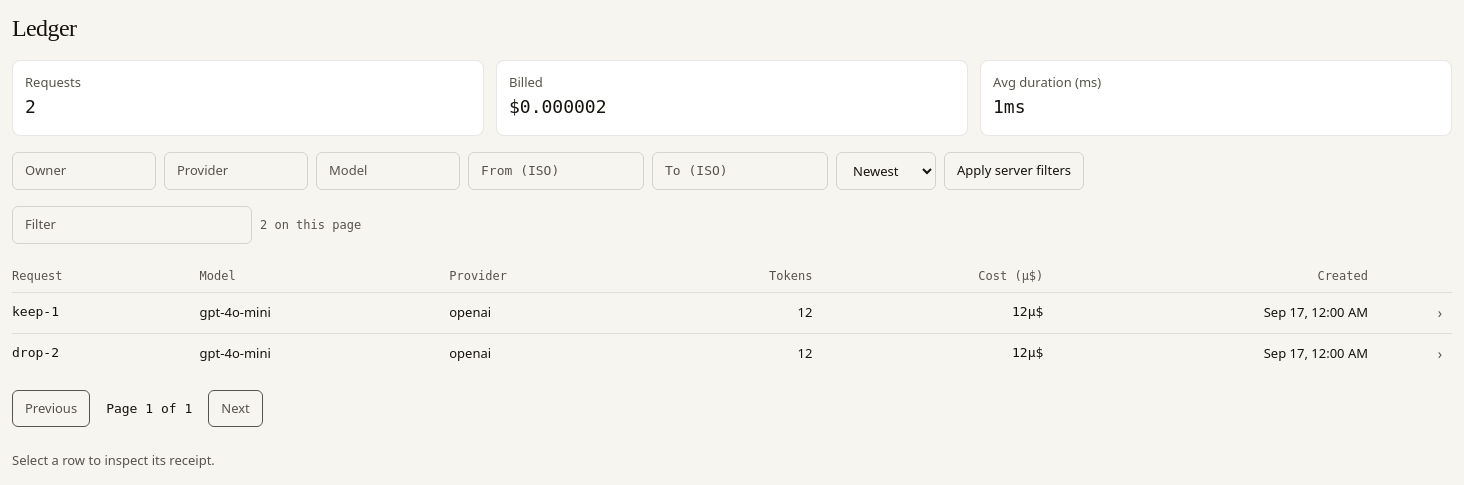
Test: LedgerPage › filters rows by request id without refetching
This screenshot has width=1464, height=485.
expect the table is shown: met, box [12,260,1452,374]
Type "keep" into the search field named "filter audit log".
click(132, 225); type("keep")  # box [12,206,252,244]
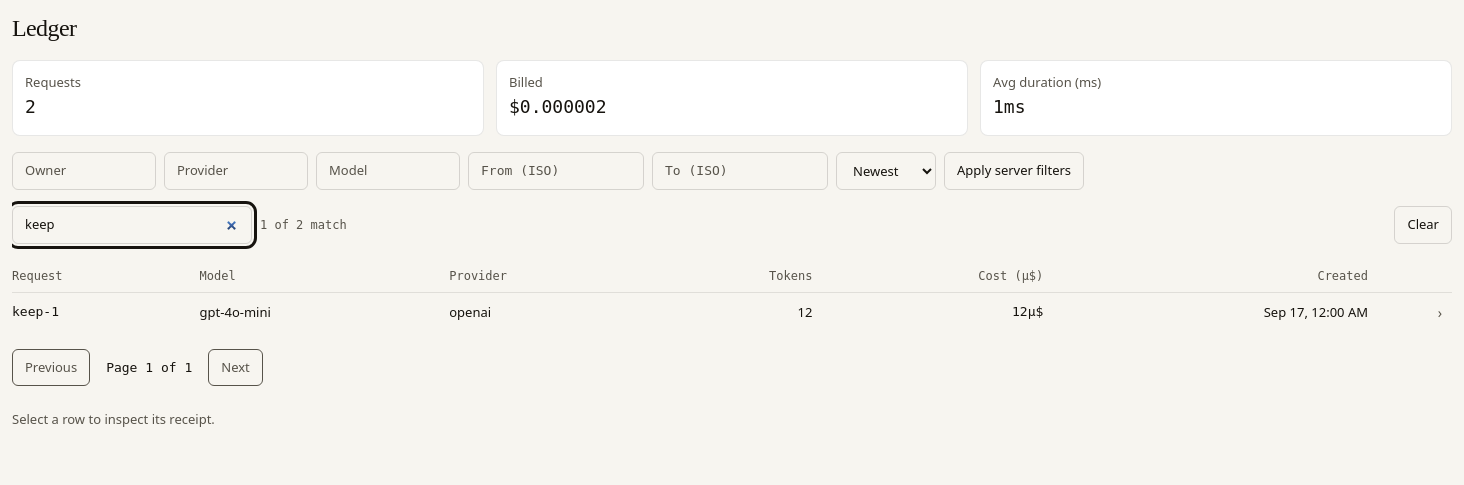
expect the text "keep-1" is shown: met, box [12,292,200,332]
expect the text "drop-2" is gone: met
Replace the text in the search field named "filter audit log" with "zzz-no-match" at (132, 225), box [12,206,252,244]
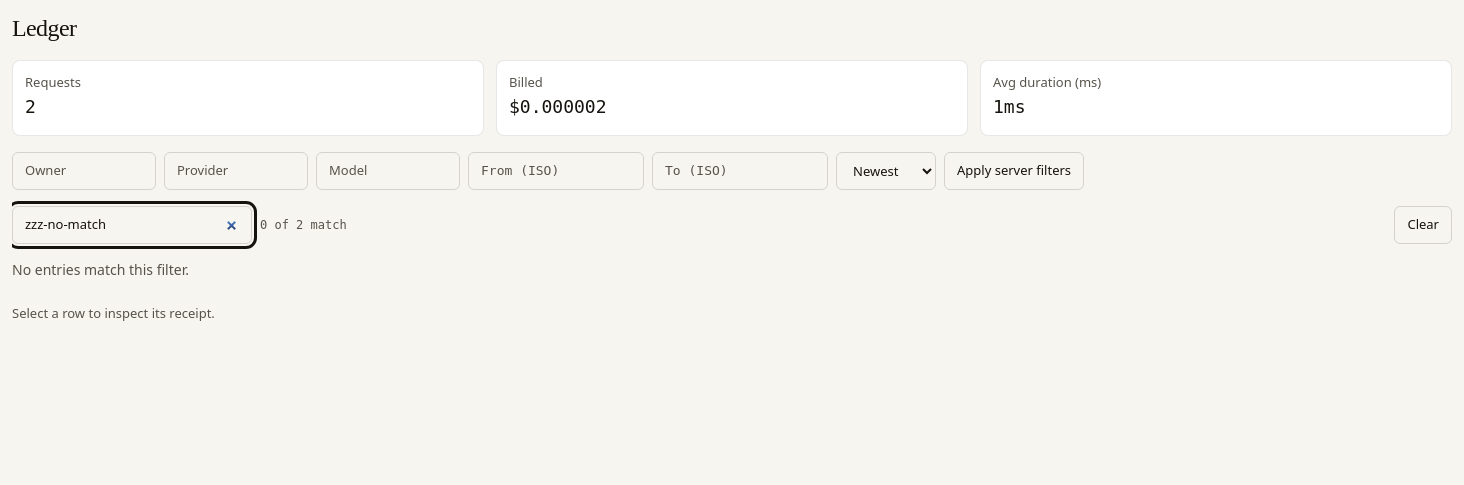
expect the text "No entries match this filter." is shown: met, box [12,260,189,278]
